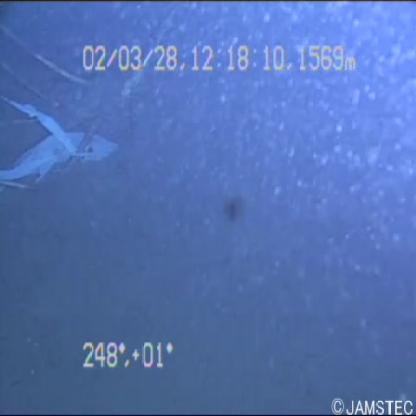Rác: (1, 75, 118, 221)
